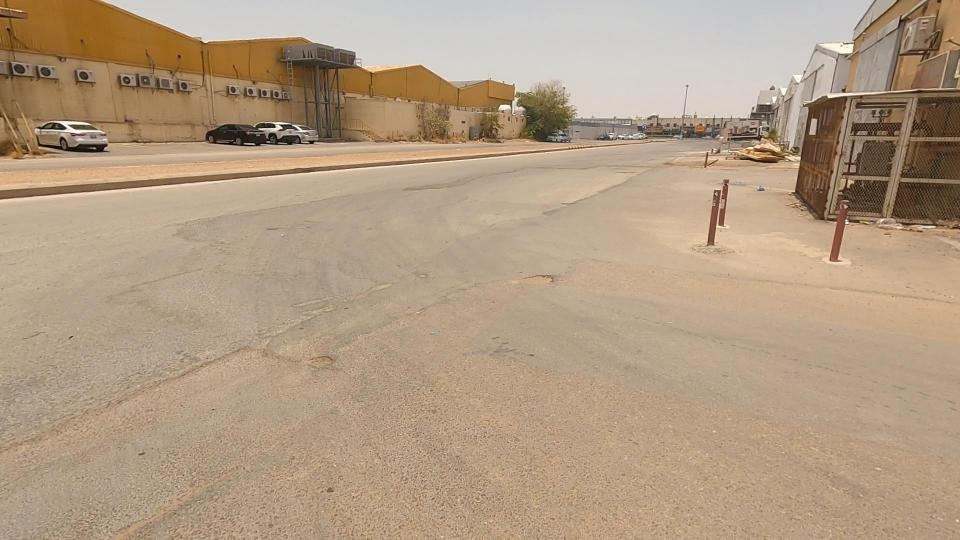CLUTTER_SIDEWALK: (0, 146, 339, 193), (225, 140, 523, 176)
GARBAGE: (686, 113, 829, 193)
POTHOLES: (167, 269, 432, 416), (406, 234, 637, 327)
